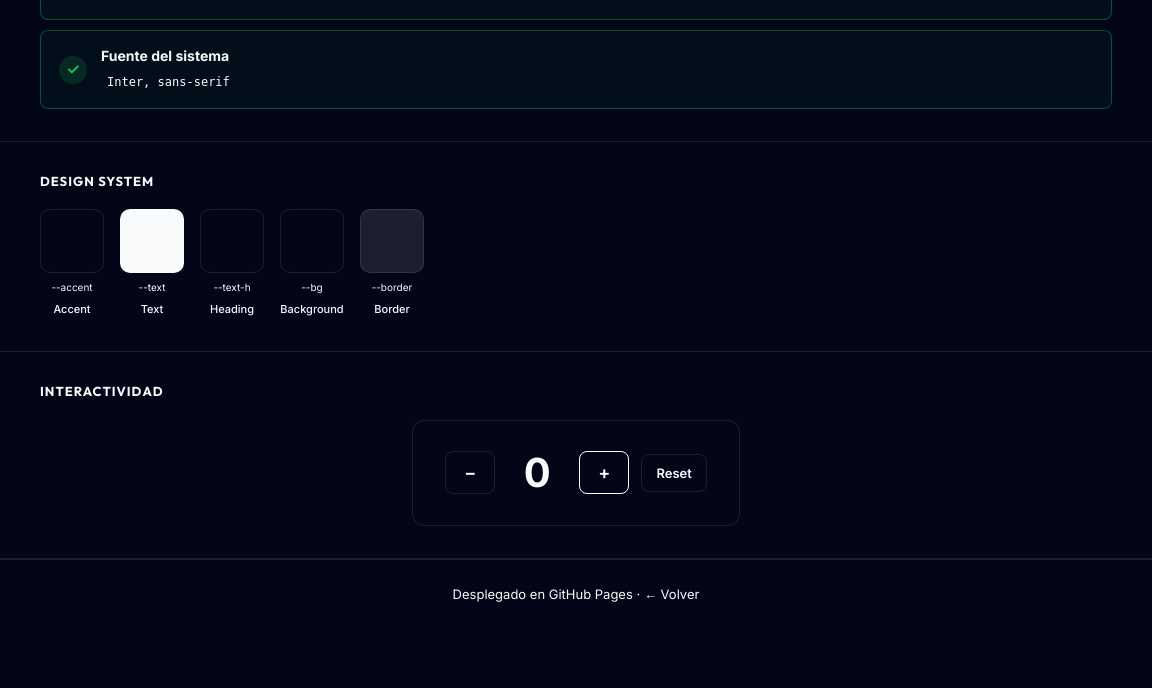
TestPage › resets counter when Reset is clicked
The width and height of the screenshot is (1152, 688).
(page scrolled)
What coordinates should you click on to do the following:
click the button "+"
I would click on:
 (604, 473)
Its box is [579,451,629,494].
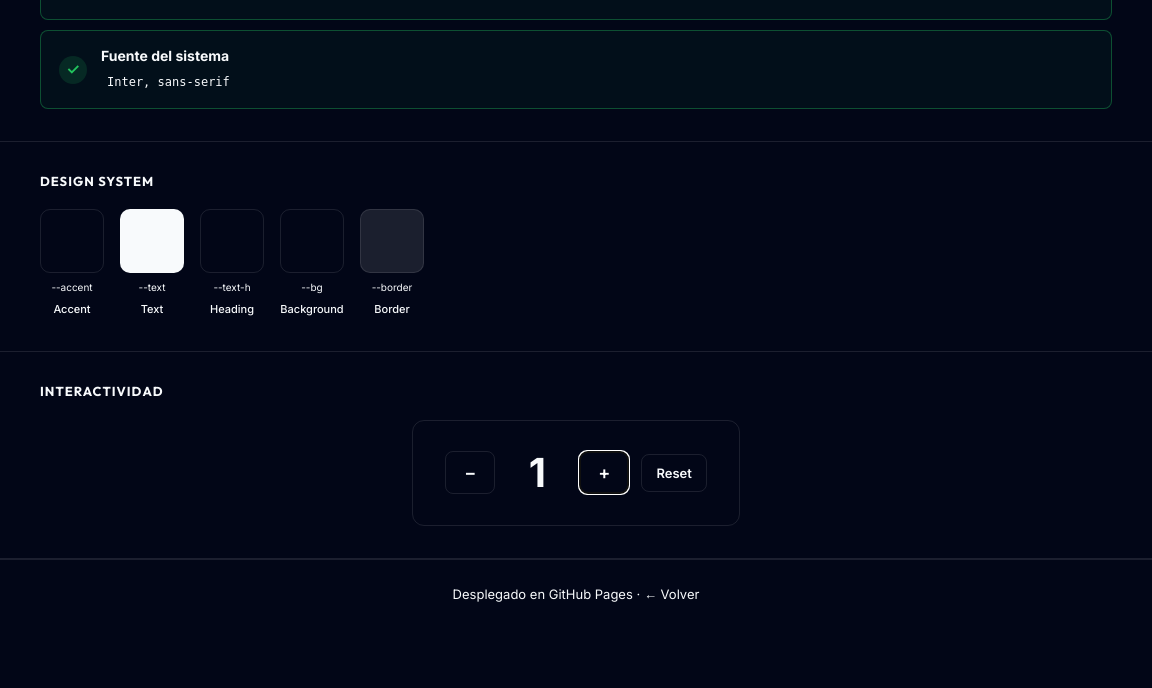
What coordinates should you click on to do the following:
click the button "Reset"
I would click on:
 (674, 473)
Its box is [641,454,707,492].
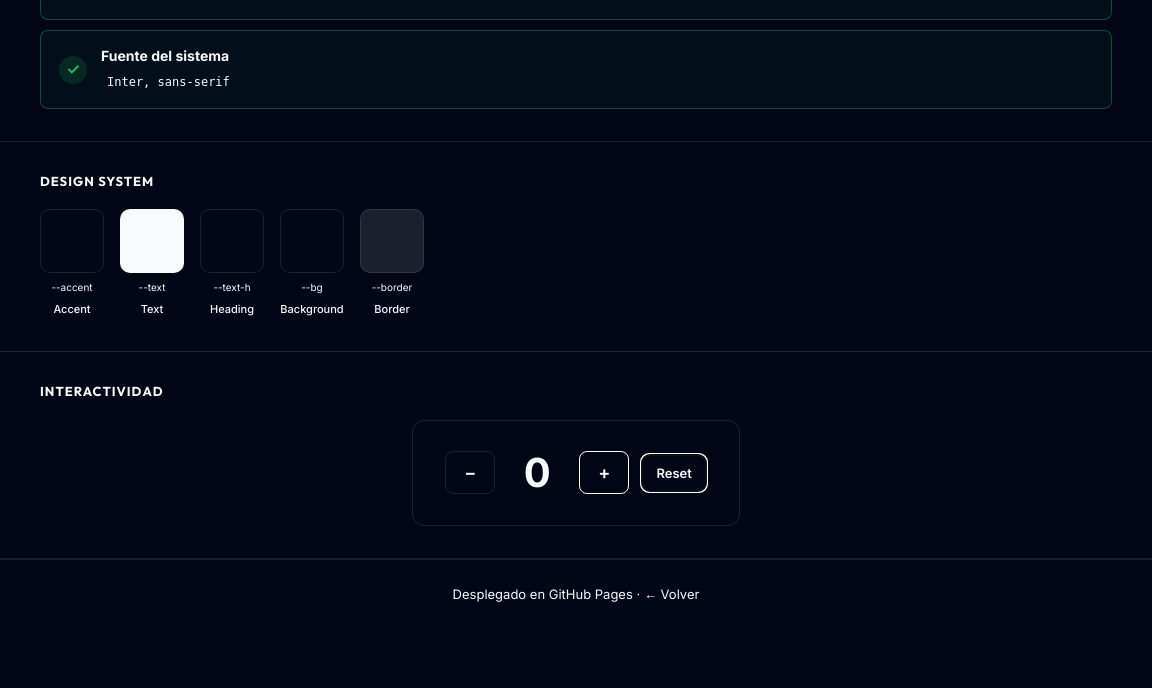
Check: the text "0" is shown, box [524,448,551,497]
